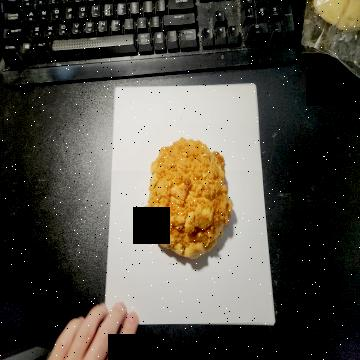soboru_bread: (142, 137, 232, 265)
